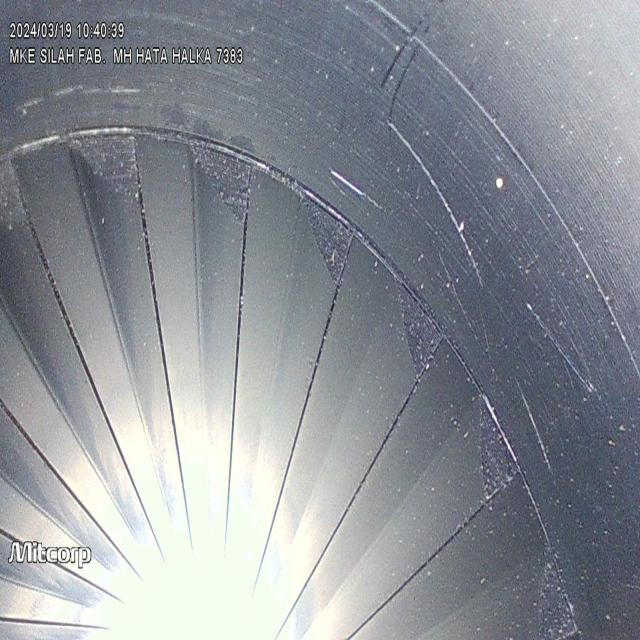hata_8.1: (372, 86, 523, 318)
